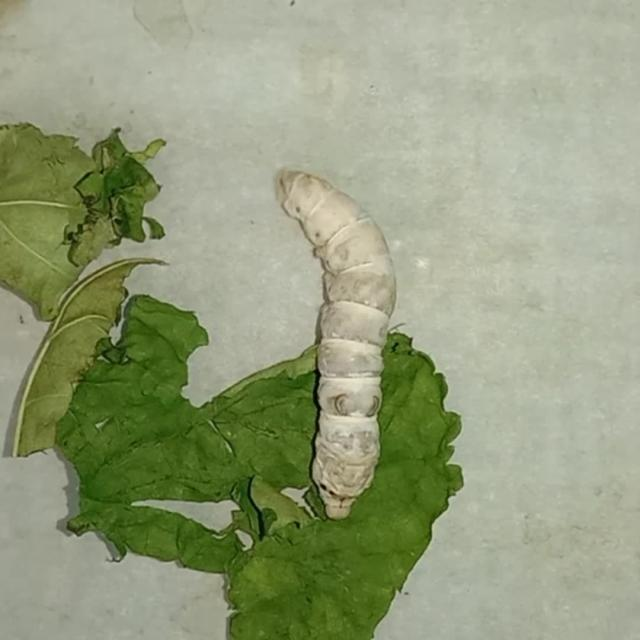Grasserie: (243, 140, 426, 544)
